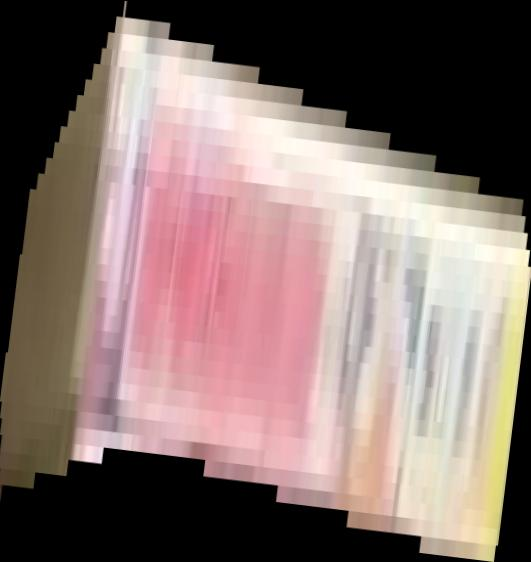flat: (1, 1, 531, 562)
